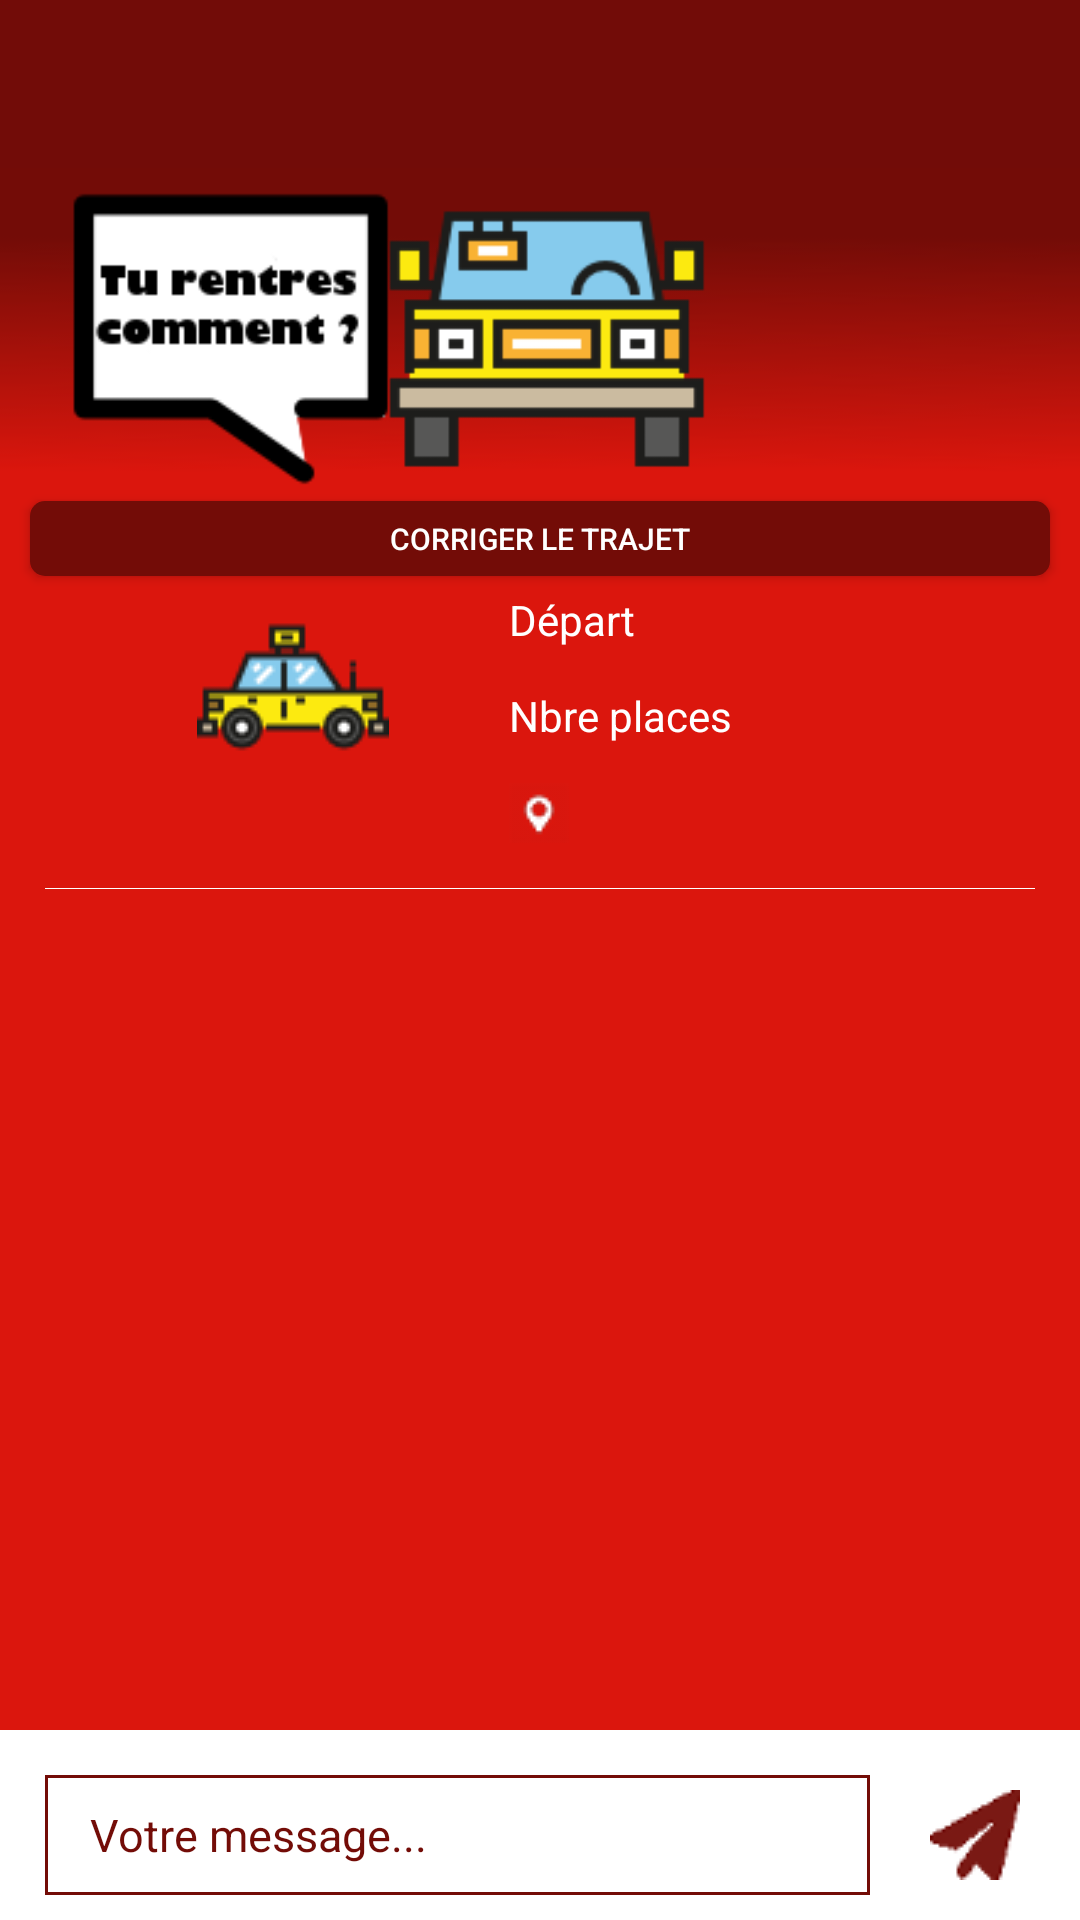

Icons on this 1080px×1920px Android screen, each with its box as (x1, y1, x2, y2):
cab: (197, 623, 389, 751)
destination: (524, 794, 555, 833)
paper plane: (930, 1790, 1020, 1880)
